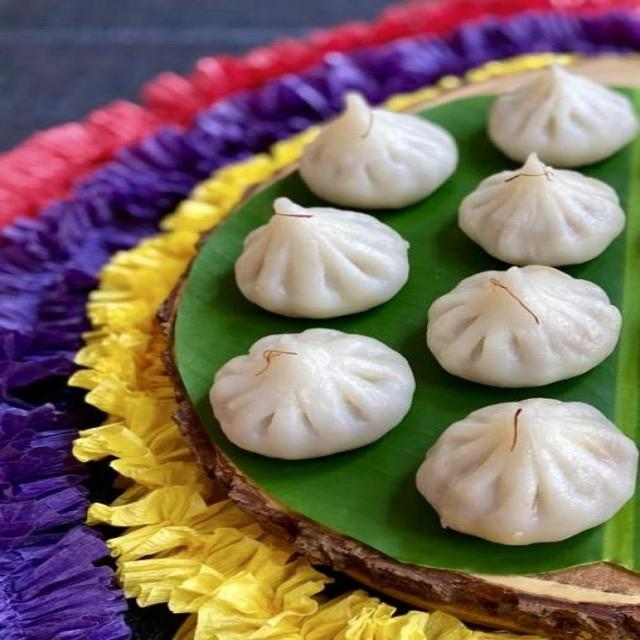modak: (294, 111, 632, 492)
